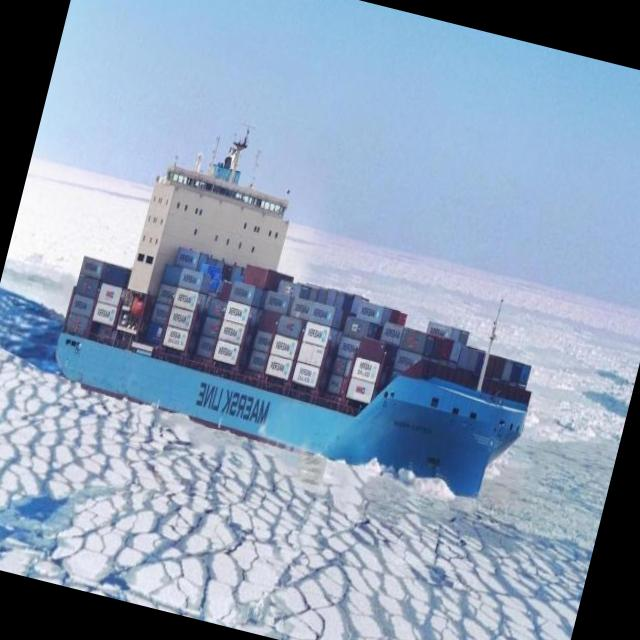Cargo: (56, 129, 531, 496)
